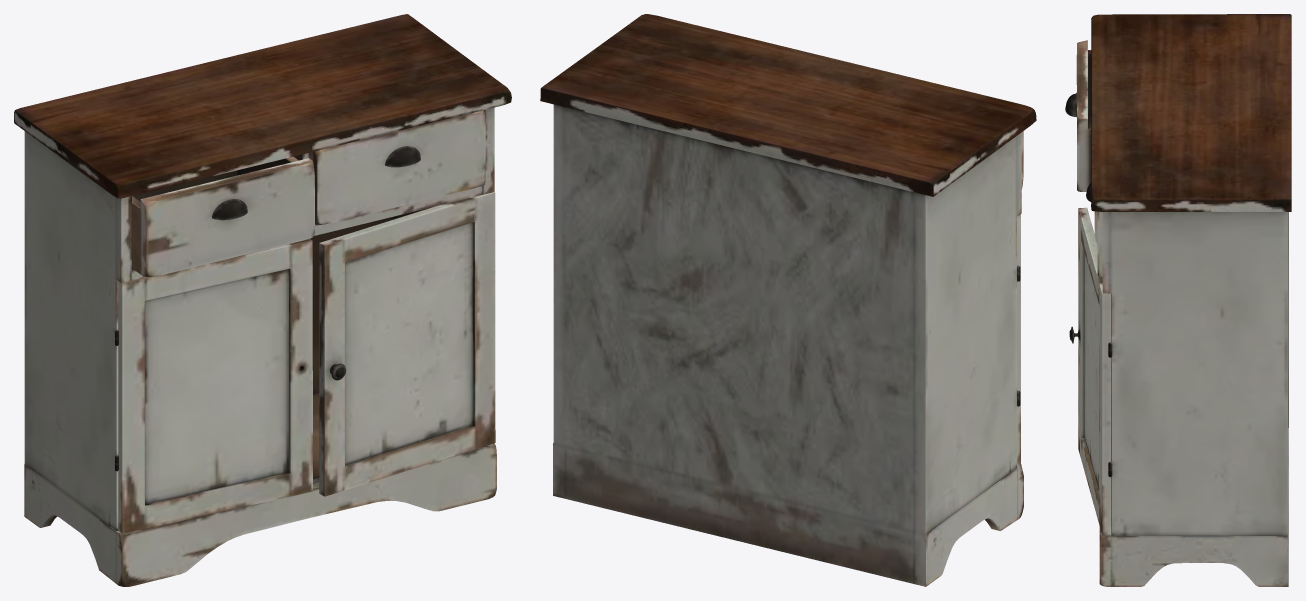
The model's file is painted_wooden_cabinet.glb.
3 views of the same model, side by side, from view 1: azimuth 30°, elevation 25°; view 2: azimuth 150°, elevation 25°; view 3: azimuth 270°, elevation 25° (orthographic). The views are drawn at different scales.
Parts seen in each view (by area): view 1: painted_wooden_cabinet; view 2: painted_wooden_cabinet; view 3: painted_wooden_cabinet.
Part boxes in pixels (<box>): painted_wooden_cabinet: <box>14,14,511,586</box>; painted_wooden_cabinet: <box>540,14,1036,586</box>; painted_wooden_cabinet: <box>1065,14,1291,586</box>.
Bounding box in the file's own units: 1.19 × 1.18 × 0.6167.
Materials: 1 (1 with a texture image).
